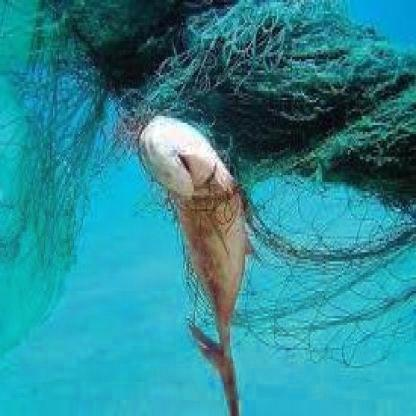net: (39, 2, 416, 189)
